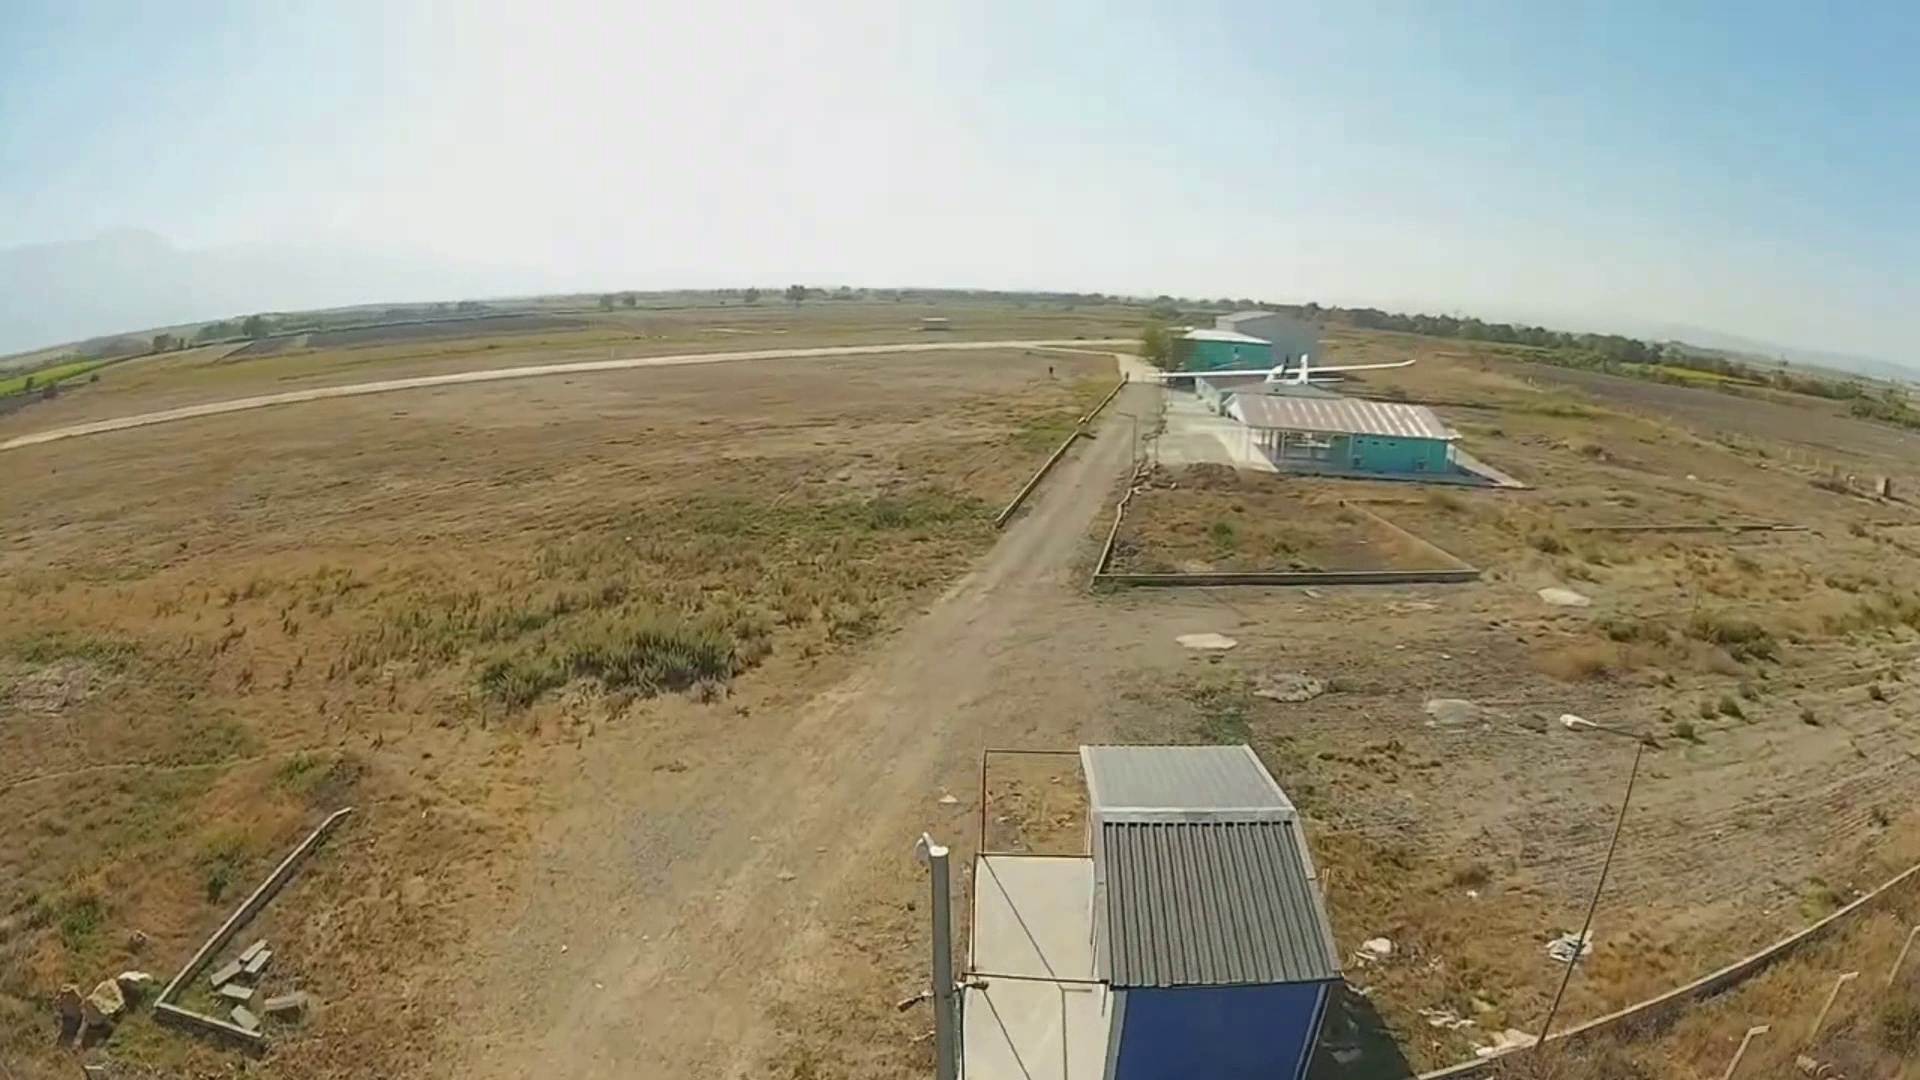airplane: (1162, 326, 1518, 488)
